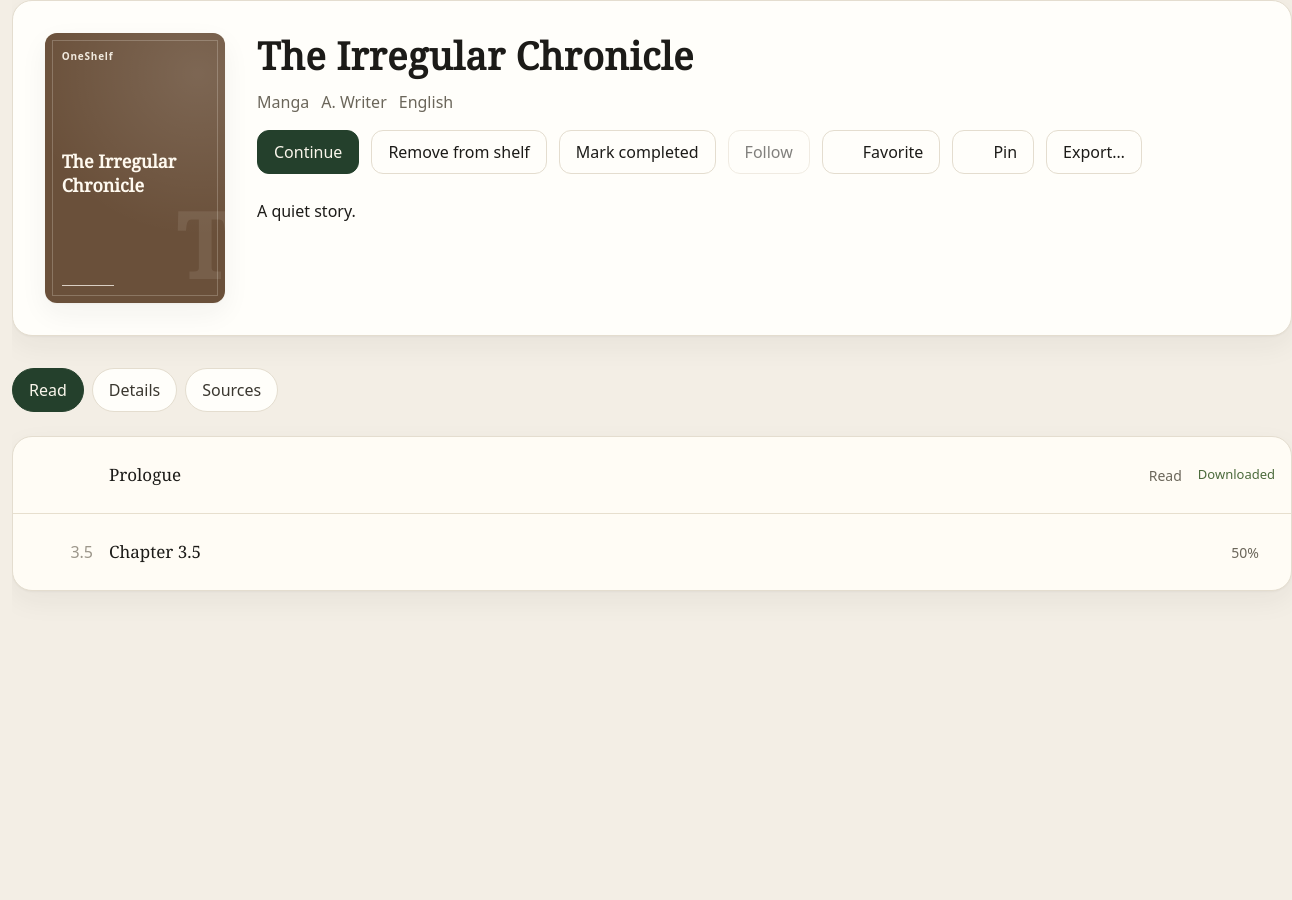
Test: Work Details › distinguishes same-source editions and marks detached saved tracks
This screenshot has width=1292, height=900.
Click the tab "Sources" at (232, 390), box [185,368,278,412]
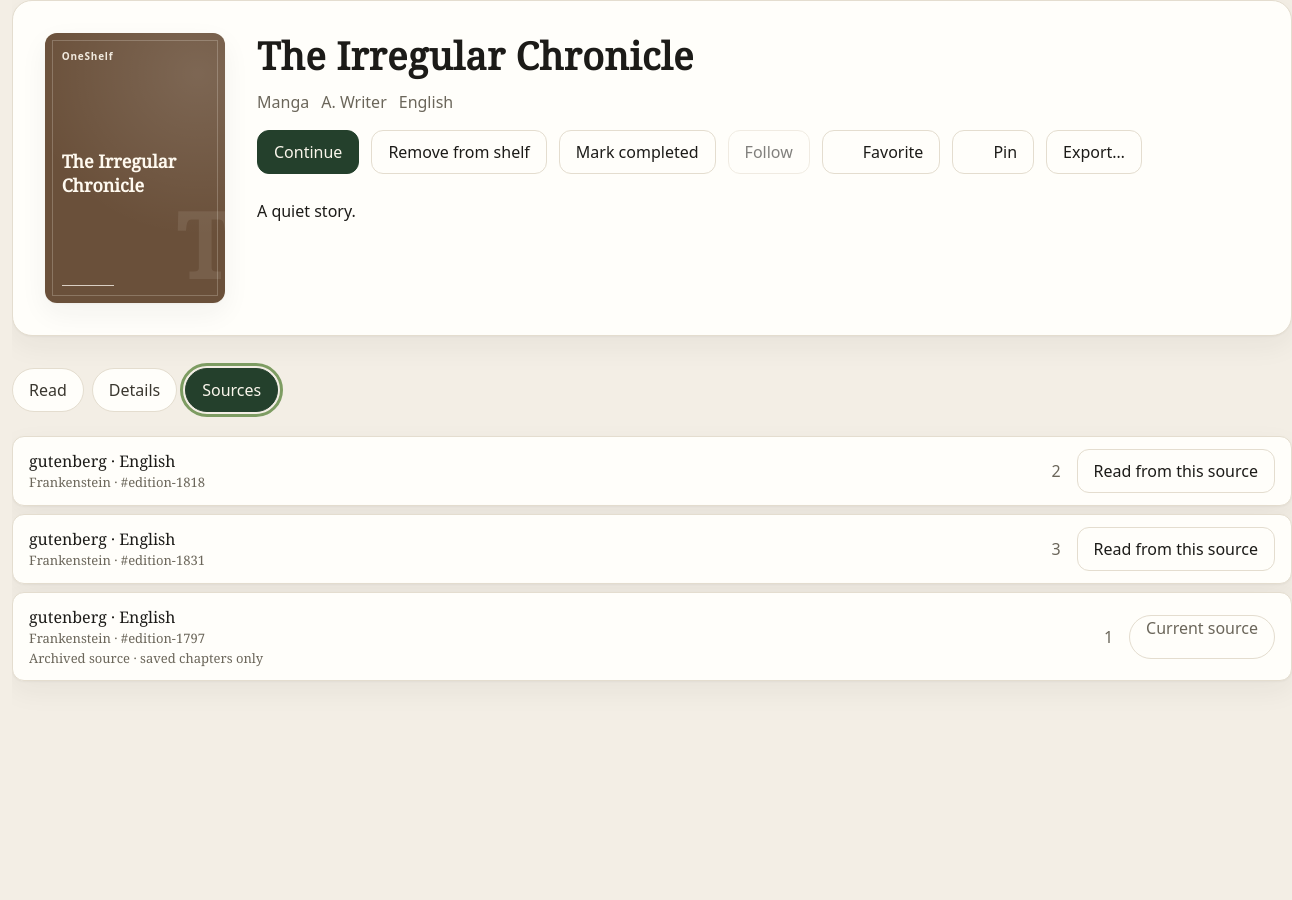
Check: the text "Frankenstein · #edition-1818" is shown, box [29,473,205,493]
Check: the text "Frankenstein · #edition-1831" is shown, box [29,551,205,571]
Check: the text "Frankenstein · #edition-1797" is shown, box [29,629,205,647]
